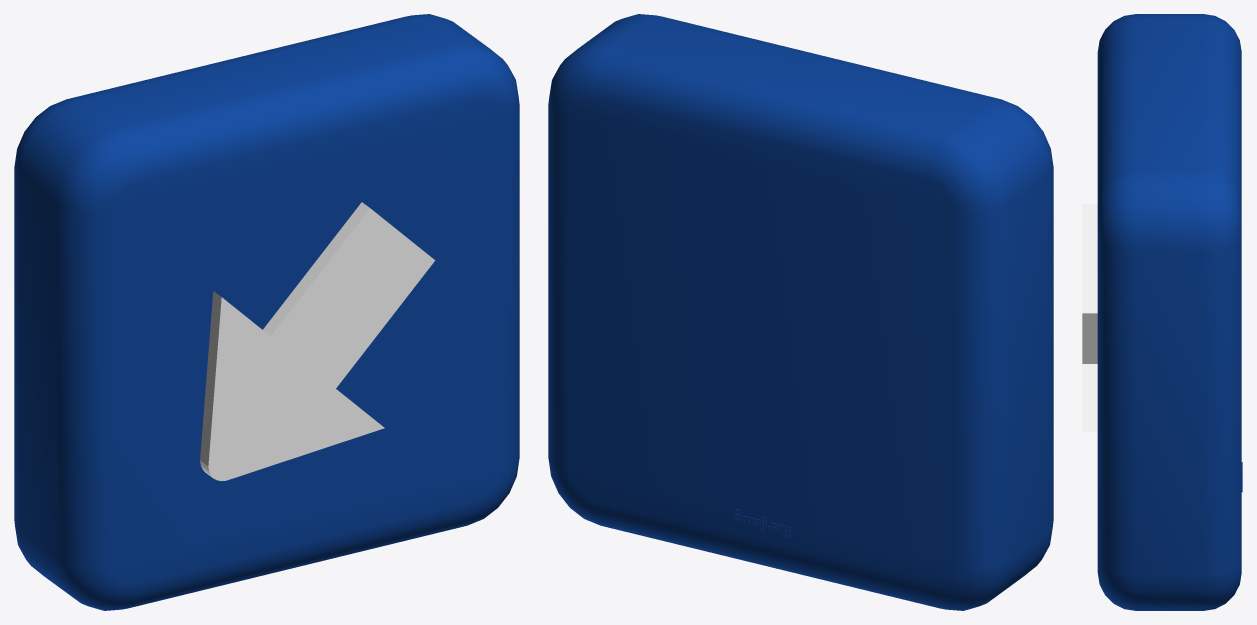
File: down_left_arrow.gltf
3 renders of one model, left to right at view 1: azimuth 30°, elevation 25°; view 2: azimuth 150°, elevation 25°; view 3: azimuth 270°, elevation 25°, orthographic. The views are drawn at different scales.
Parts seen in each view (by area): view 1: Cube.6322; view 2: Cube.6322; view 3: Cube.6322.
Part boxes in pixels (x1,y1,x2,y2): Cube.6322: (14,14,519,610); Cube.6322: (548,14,1053,610); Cube.6322: (1082,14,1242,610).
Bounding box in the file's own units: 2.2 × 2.2 × 0.7337.
1 material, 1 textured.
